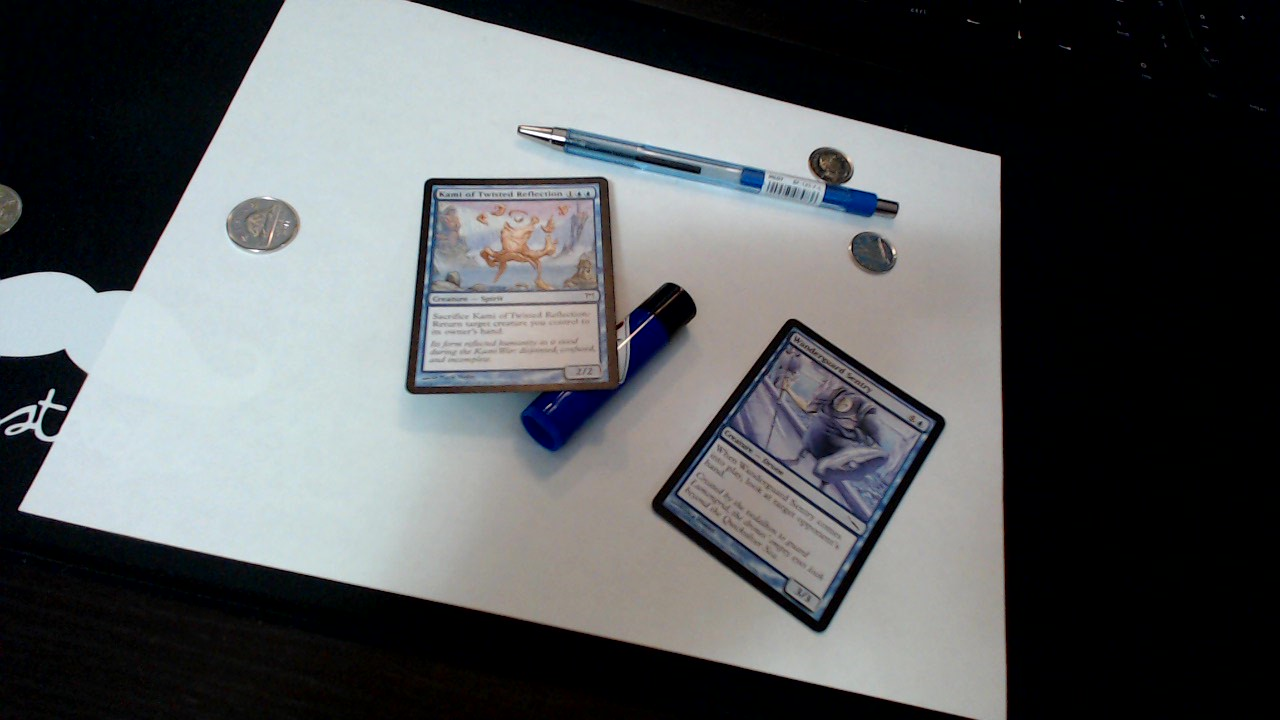MTG Card: (647, 315, 949, 639), (400, 167, 627, 401)
